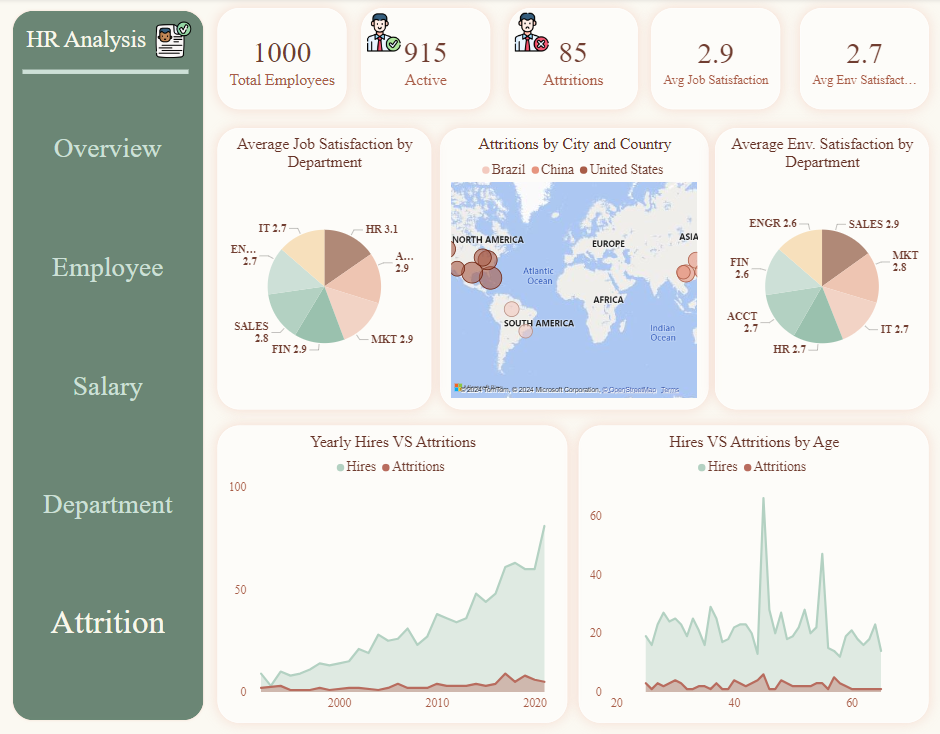

The dashboard page shown, as its layout file describes it:
{"tool":"powerbi","page":{"name":"Attrition","canvas":[1280,1000],"ordinal":4},"visuals":[{"type":"shape","box":[13.6,13.6,266.6,971.5],"z":0},{"type":"textbox","box":[30,31.9,244.8,50.1],"z":0,"group":"g1"},{"type":"map","title":"Attritions by City and Country","fields":{"Size":["CountNonNull(Job_History.EEID)"],"Category":["Cities.City"],"Series":["Countries.Country"]},"box":[597,176,365,382.1],"z":0,"group":"g2"},{"type":"image","box":[186.1,27.2,97,59.4],"z":1000,"group":"g1"},{"type":"pageNavigator","box":[34,108.7,225.9,818.6],"z":1000},{"type":"group","id":"g1","title":"Group 1","box":[30,27.2,253.1,59.4],"z":2000},{"type":"shape","box":[30,86,225.9,27.2],"z":3000},{"type":"card","fields":{"Values":["All_Measures.TotalEmployees"]},"box":[295.5,13,174.9,137.6],"z":4000},{"type":"group","id":"g2","title":"Group 4","box":[597,176,365,382.1],"z":5000},{"type":"pieChart","title":"Average Job Satisfaction by Department","fields":{"Y":["Avg(Employee_Data.Job_Satisfaction_Rate)"],"Category":["Department.Department_ID"]},"box":[295.5,176,290,382.1],"z":6000},{"type":"pieChart","title":"Average Env. Satisfaction by Department","fields":{"Category":["Department.Department_ID"],"Y":["Avg(Employee_Data.EnvironmentSatisfaction)"]},"box":[971.5,176,290.4,382.1],"z":7000},{"type":"areaChart","title":"Yearly Hires VS Attritions ","fields":{"Y":["CountNonNull(Current_Employees.EEID)","CountNonNull(Job_History.EEID)"],"Category":["Employee_Data.Hire_ Date.Variation.Date Hierarchy.Year"]},"box":[295.5,580.8,475,404.2],"z":8000},{"type":"areaChart","title":"Hires VS Attritions by Age","fields":{"Y":["CountNonNull(Current_Employees.EEID)","CountNonNull(Job_History.EEID)"],"Category":["Employee_Data.Age"]},"box":[786.3,580.8,475.5,404.2],"z":9000},{"type":"card","fields":{"Values":["All_Measures.Active"]},"box":[490,13,174.9,137.6],"z":10000},{"type":"card","fields":{"Values":["All_Measures.Terminated"]},"box":[691.2,13,174.9,137.6],"z":11000},{"type":"card","fields":{"Values":["All_Measures.Average_Job_Stais"]},"box":[884.9,13,174.9,137.6],"z":12000},{"type":"card","fields":{"Values":["All_Measures.Average_Env_Satis"]},"box":[1087,13,174.9,137.6],"z":13000},{"type":"image","box":[691.2,0,62.8,93.4],"z":14000},{"type":"image","box":[490.8,0,62,93],"z":15000}]}

Visuals, with their boxes in screenshot pixels (x1, y1, x2, y2), scaled from the page's 1280x1000 canvas onto the 940x734 screenshot:
shape: left=10, top=10, right=206, bottom=723
textbox: left=22, top=23, right=202, bottom=60
"Attritions by City and Country" map: left=438, top=129, right=706, bottom=410
image: left=137, top=20, right=208, bottom=64
pageNavigator: left=25, top=80, right=191, bottom=681
"Group 1" group: left=22, top=20, right=208, bottom=64
shape: left=22, top=63, right=188, bottom=83
card - All_Measures.TotalEmployees: left=217, top=10, right=345, bottom=111
"Group 4" group: left=438, top=129, right=706, bottom=410
"Average Job Satisfaction by Department" pieChart: left=217, top=129, right=430, bottom=410
"Average Env. Satisfaction by Department" pieChart: left=713, top=129, right=927, bottom=410
"Yearly Hires VS Attritions " areaChart: left=217, top=426, right=566, bottom=723
"Hires VS Attritions by Age" areaChart: left=577, top=426, right=927, bottom=723
card - All_Measures.Active: left=360, top=10, right=488, bottom=111
card - All_Measures.Terminated: left=508, top=10, right=636, bottom=111
card - All_Measures.Average_Job_Stais: left=650, top=10, right=778, bottom=111
card - All_Measures.Average_Env_Satis: left=798, top=10, right=927, bottom=111
image: left=508, top=0, right=554, bottom=69
image: left=360, top=0, right=406, bottom=68
